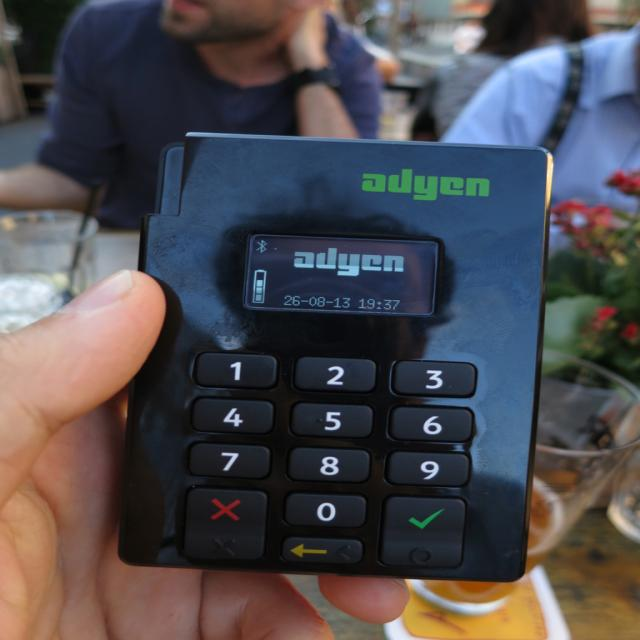Calculator: (112, 132, 552, 579)
